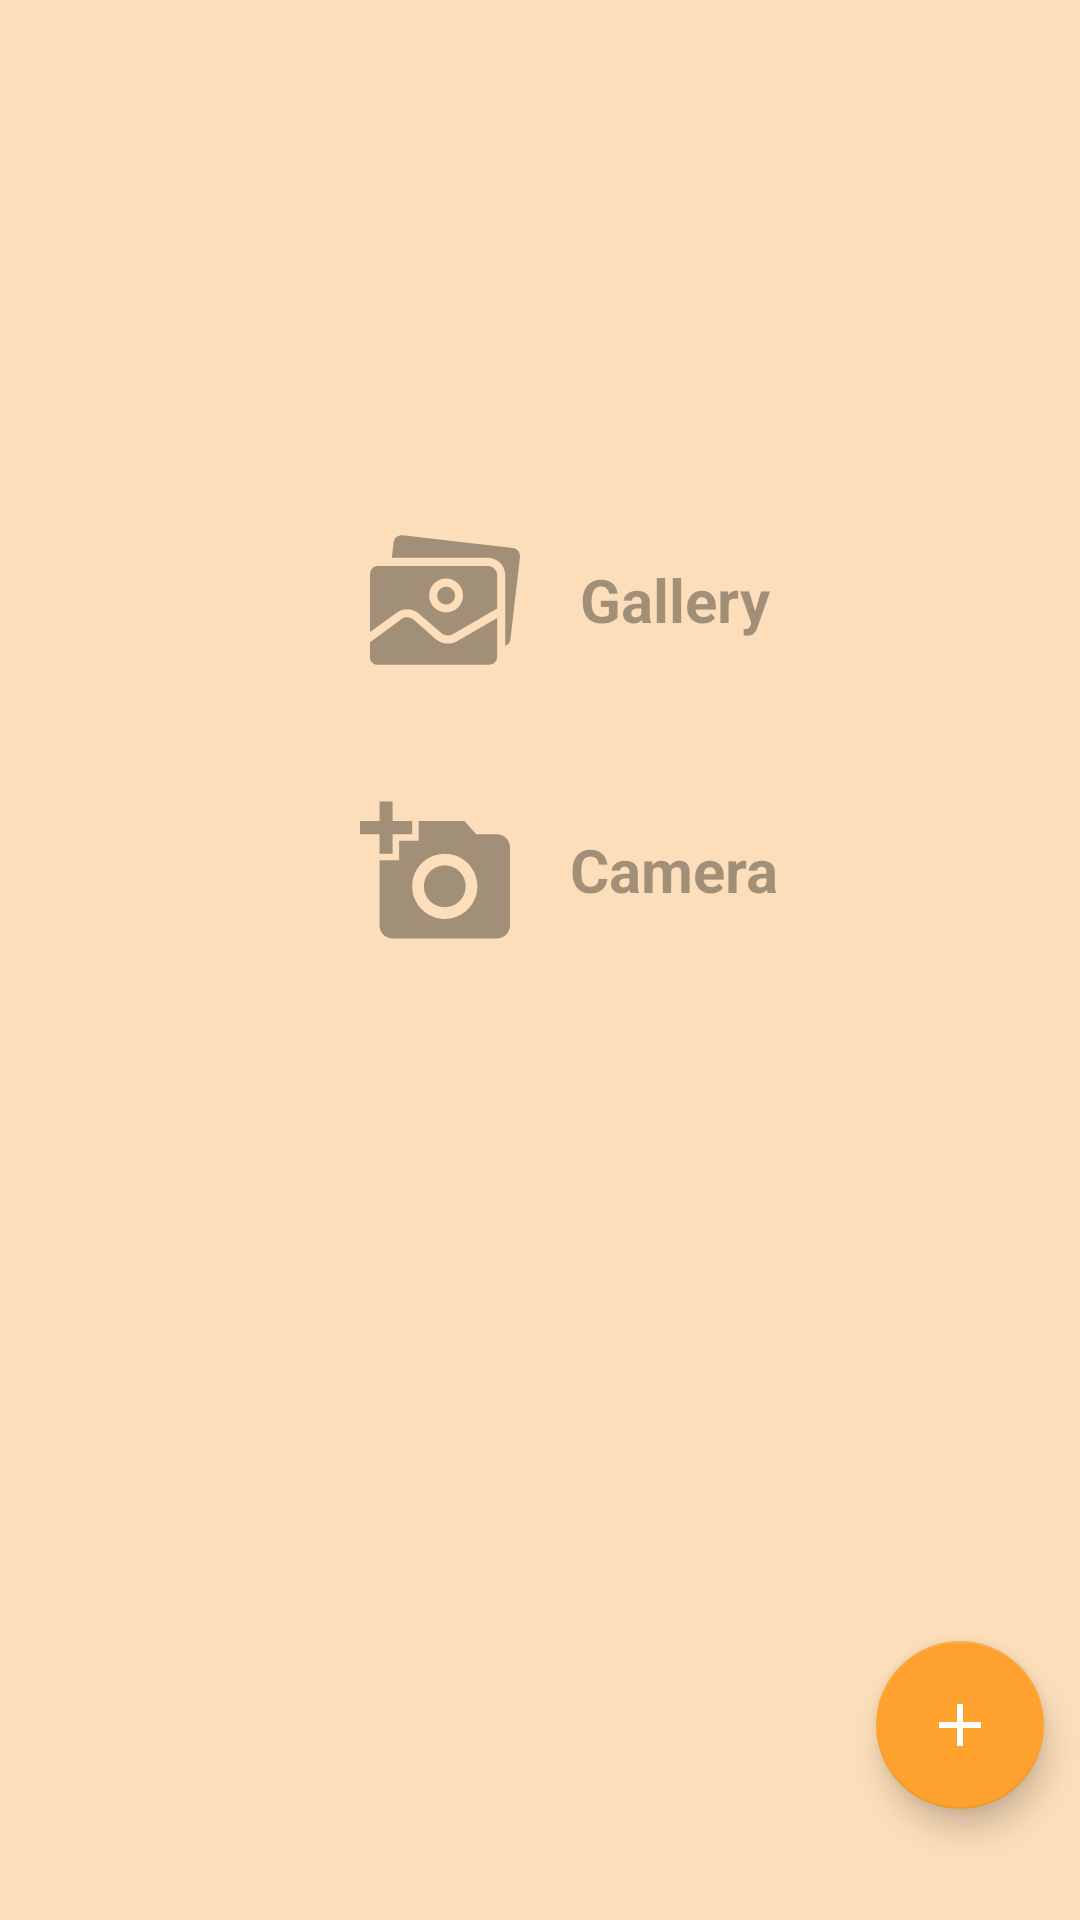

Named icons in this screenshot (1080px×1920px) and their bounding boxes, Rect(x1, y1, x2, y2):
add: Rect(876, 1641, 1047, 1826)
